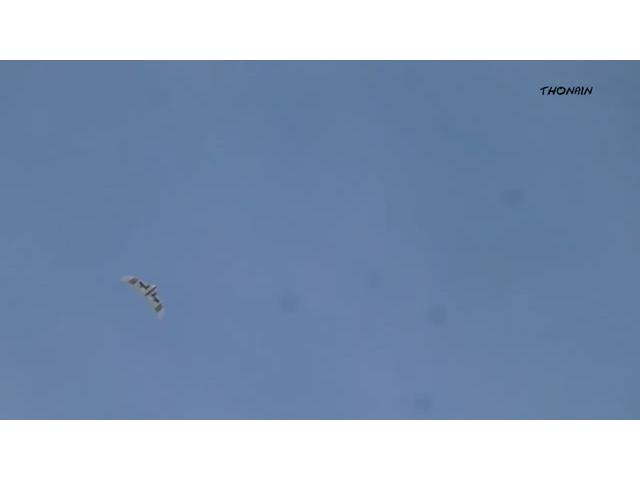Anti-Drone: (122, 275, 166, 319)
